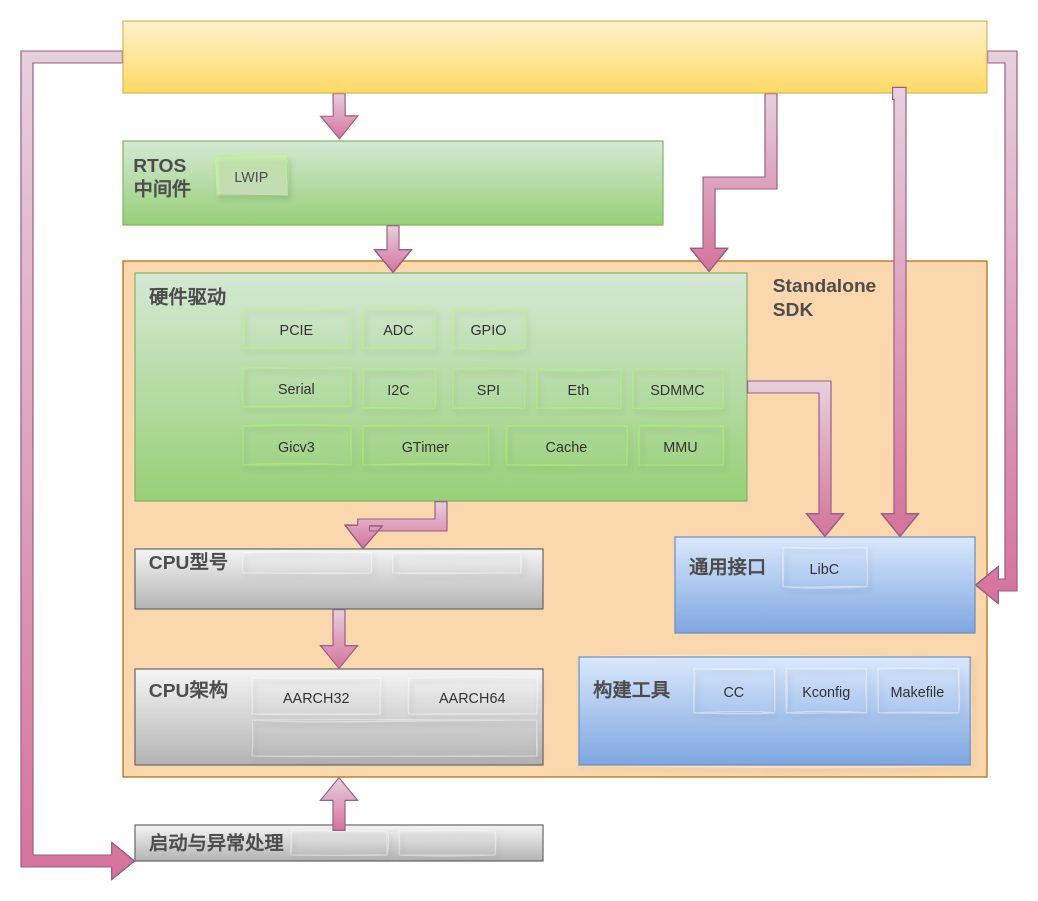
Some shapes in this 1038 by 901 pixel diagram are drawn without their labels. The shapes that lost their labels are listed below. From the top down, each one's centre as x and y in pixels, then its label:
At point 554,56: "RTOS应用".
At point 307,563: "FT2000/4".
At point 457,563: "D2000".
At point 395,739: "Armv8-a".
At point 339,844: "startup.S".
At point 447,844: "vector.S".
